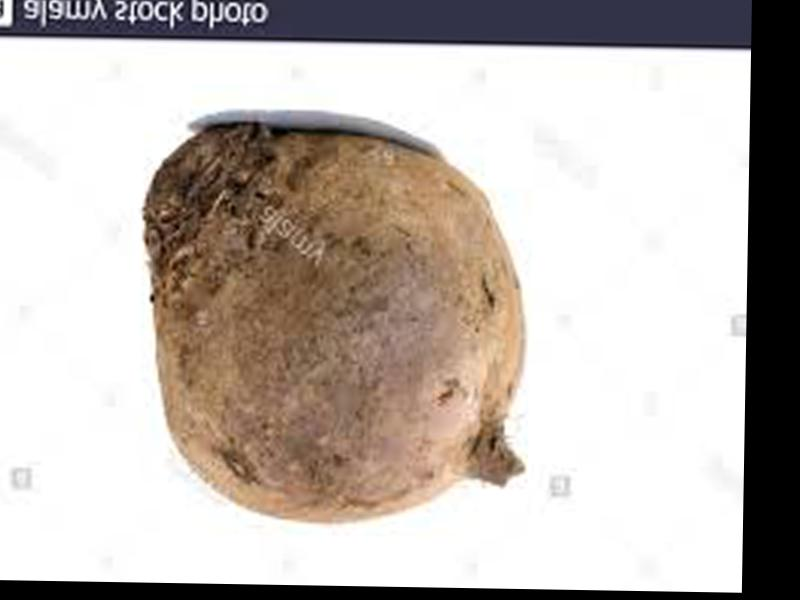Beet: (141, 122, 531, 526)
